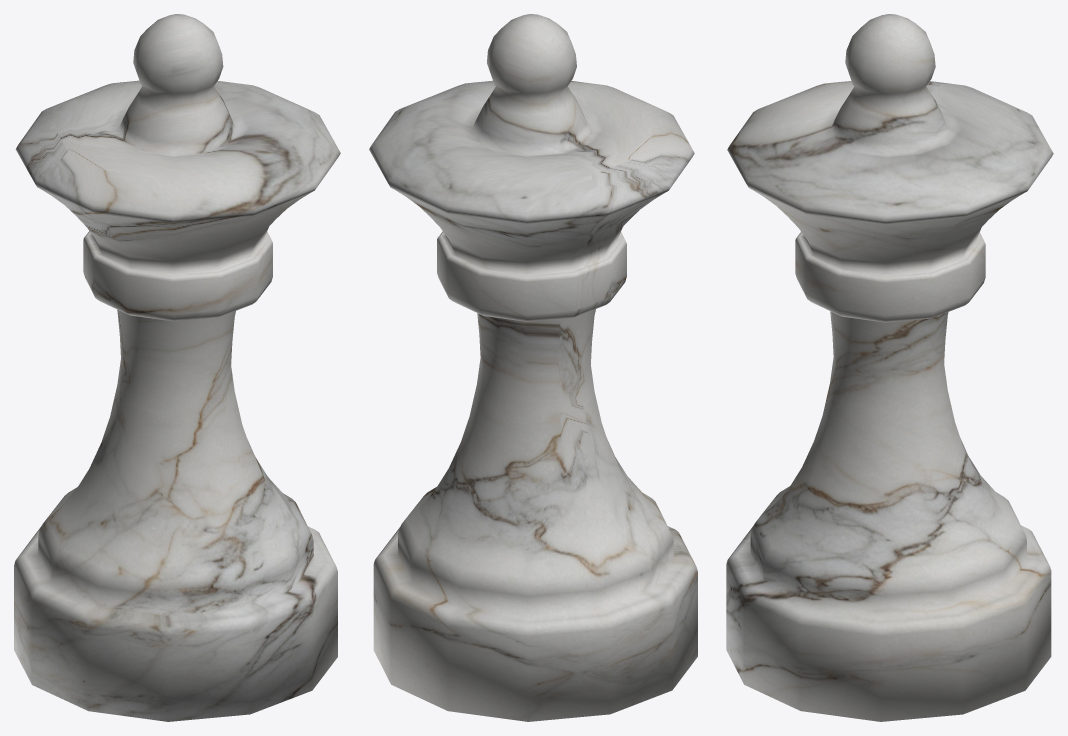
Rendered from ReinaBlanco.glb.
The picture shows the model from 3 angles, left to right: view 1: azimuth 30°, elevation 25°; view 2: azimuth 150°, elevation 25°; view 3: azimuth 270°, elevation 25°; orthographic projection.
Parts seen in each view (by area): view 1: Reina; view 2: Reina; view 3: Reina.
Part boxes in pixels (x1=…): Reina: x1=14, y1=14, x2=340, y2=721; Reina: x1=369, y1=14, x2=697, y2=721; Reina: x1=726, y1=14, x2=1053, y2=721.
Bounding box in the file's own units: 0.7122 × 1.52 × 0.7081.
1 material, 1 textured.
